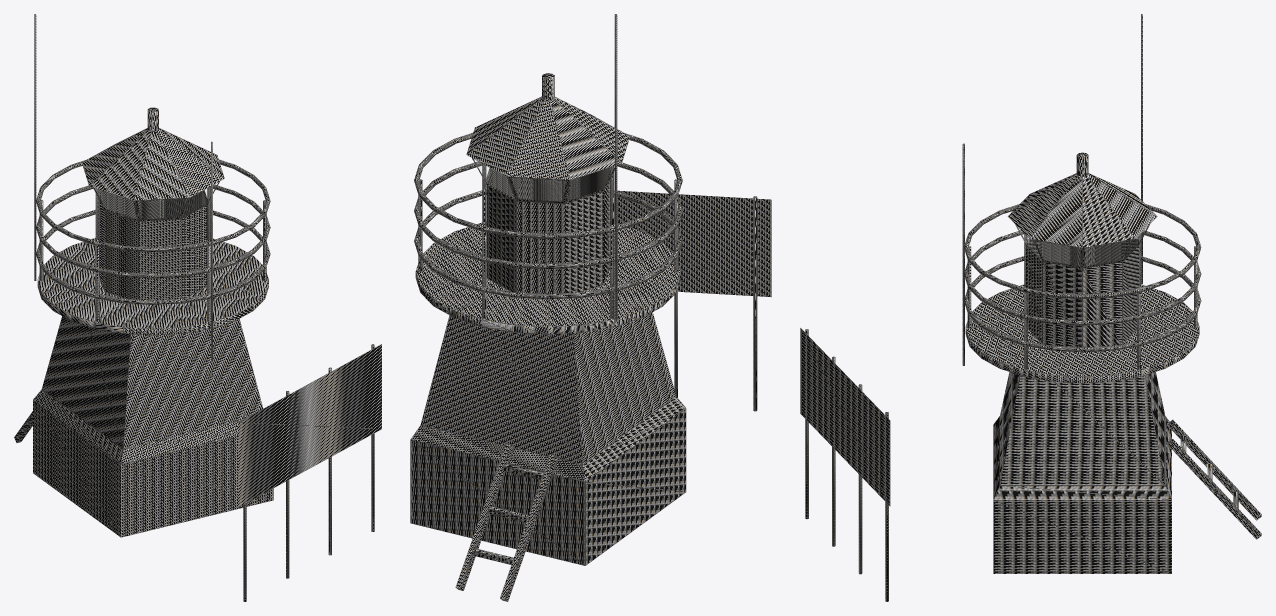
File: Siilinkari_majakka.gltf
3 renders of one model, left to right at view 1: azimuth 30°, elevation 25°; view 2: azimuth 150°, elevation 25°; view 3: azimuth 270°, elevation 25°, orthographic. The views are drawn at different scales.
Visible parts, largest first — view 1: Siilinkari, Kaapeli, Siilinkari DS; view 2: Siilinkari, Siilinkari DS, Kaapeli; view 3: Siilinkari, Siilinkari DS, Kaapeli.
Boxes of the visible parts, x1,y1,x2,y2 form: Siilinkari: (14, 14, 273, 537); Kaapeli: (238, 344, 381, 601); Siilinkari DS: (93, 181, 219, 300); Siilinkari: (410, 14, 686, 601); Siilinkari DS: (472, 158, 615, 294); Kaapeli: (614, 190, 771, 411); Siilinkari: (962, 14, 1261, 573); Siilinkari DS: (1015, 224, 1149, 347); Kaapeli: (800, 328, 890, 601).
Bounding box in the file's own units: 4.62 × 9 × 7.76.
